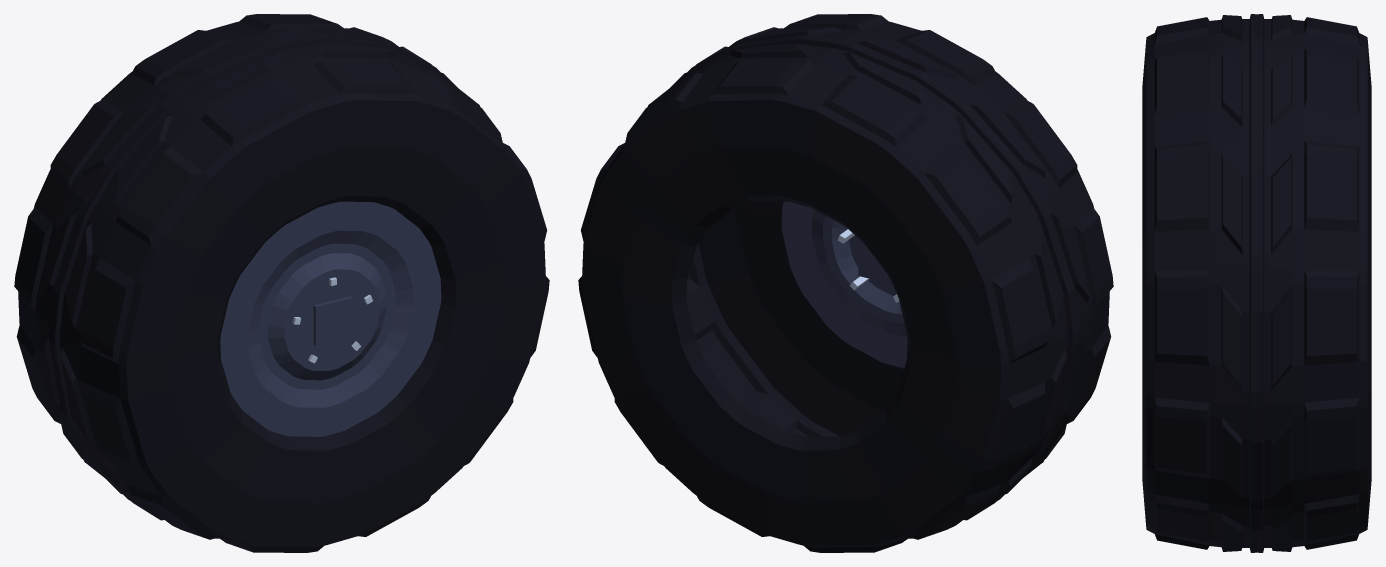
The model's file is Tire1.fbx.
3 views of the same model, side by side, from view 1: azimuth 30°, elevation 25°; view 2: azimuth 150°, elevation 25°; view 3: azimuth 270°, elevation 25° (orthographic).
Parts seen in each view (by area): view 1: Plane; view 2: Plane; view 3: Plane.
Part boxes in pixels (x1,y1,x2,y2): Plane: (14,14,549,552); Plane: (578,14,1113,552); Plane: (1142,14,1371,552).
Bounding box in the file's own units: 36.5 × 85.94 × 85.94.
